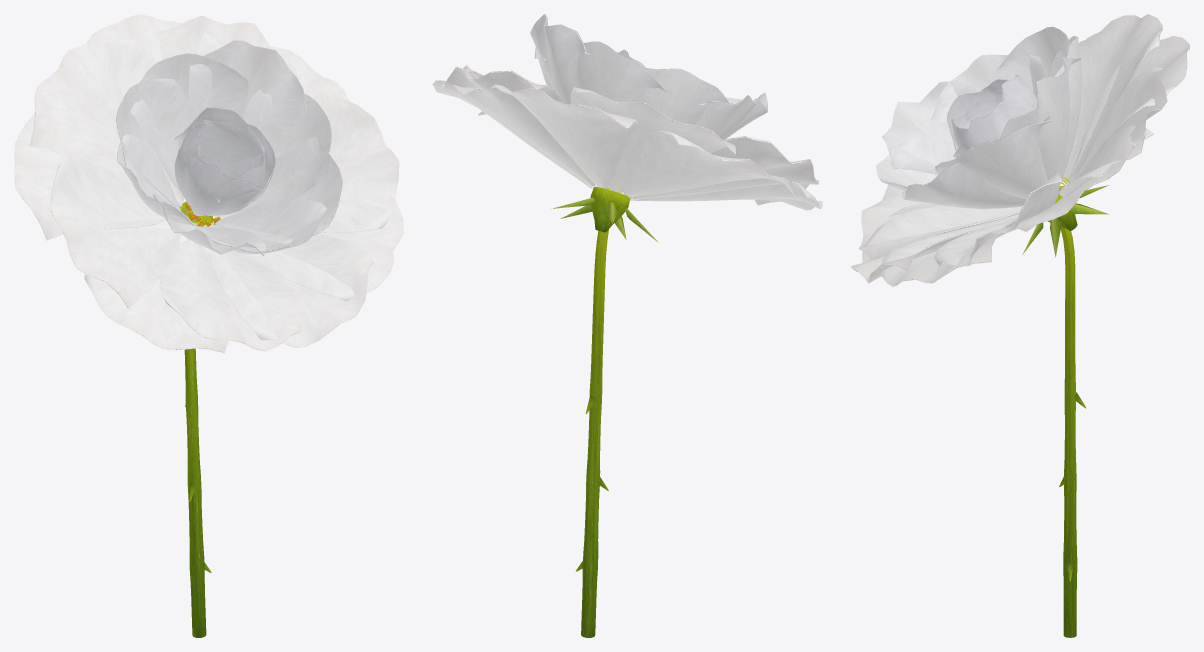
The model's file is color_3.glb.
The picture shows the model from 3 angles, left to right: view 1: azimuth 30°, elevation 25°; view 2: azimuth 150°, elevation 25°; view 3: azimuth 270°, elevation 25°; orthographic projection.
Visible parts, largest first — view 1: Petal_1_outer_03, Petal_3_outer_04, Petal_5_outer_04, Petal_6_outer_02, Petal_4_outer_01, Petal_8_outer_02, Petal_15_middle_03, Petal_7_outer_03, Petal_17_middle_01, Petal_16_middle_04, Stem_Skinned, Petal_14_middle_04 (+13 smaller); view 2: Petal_0_outer_01, Stem_Skinned, Petal_2_outer_01, Petal_10_outer_02, Petal_1_outer_03, Petal_16_middle_04, Petal_3_outer_04, Petal_17_middle_01, Petal_15_middle_03, Petal_4_outer_01, Hypanthium_and_five_sepals, Petal_18_middle_02 (+2 smaller); view 3: Petal_1_outer_03, Stem_Skinned, Petal_14_middle_04, Petal_6_outer_02, Petal_10_outer_02, Petal_15_middle_03, Petal_11_middle_03, Petal_13_middle_02, Petal_7_outer_03, Petal_0_outer_01, Petal_8_outer_02, Petal_5_outer_04 (+10 smaller).
Boxes of the visible parts, left/top/right/bottom form: Petal_1_outer_03: left=29, top=37, right=154, bottom=186; Petal_3_outer_04: left=50, top=159, right=179, bottom=308; Petal_5_outer_04: left=159, top=239, right=309, bottom=351; Petal_6_outer_02: left=209, top=234, right=373, bottom=347; Petal_4_outer_01: left=84, top=228, right=232, bottom=353; Petal_8_outer_02: left=312, top=90, right=399, bottom=233; Petal_15_middle_03: left=188, top=40, right=306, bottom=155; Petal_7_outer_03: left=246, top=172, right=403, bottom=301; Petal_17_middle_01: left=115, top=78, right=188, bottom=206; Petal_16_middle_04: left=130, top=53, right=248, bottom=191; Stem_Skinned: left=184, top=212, right=211, bottom=637; Petal_14_middle_04: left=237, top=89, right=331, bottom=211; Petal_0_outer_01: left=489, top=84, right=638, bottom=188; Stem_Skinned: left=576, top=229, right=608, bottom=637; Petal_2_outer_01: left=624, top=130, right=794, bottom=197; Petal_10_outer_02: left=441, top=66, right=594, bottom=186; Petal_1_outer_03: left=570, top=87, right=735, bottom=193; Petal_16_middle_04: left=576, top=41, right=669, bottom=102; Petal_3_outer_04: left=633, top=136, right=819, bottom=200; Petal_17_middle_01: left=638, top=67, right=728, bottom=124; Petal_15_middle_03: left=530, top=14, right=593, bottom=104; Petal_4_outer_01: left=632, top=182, right=822, bottom=210; Hypanthium_and_five_sepals: left=551, top=187, right=657, bottom=241; Petal_18_middle_02: left=694, top=95, right=755, bottom=138; Petal_1_outer_03: left=1063, top=14, right=1162, bottom=182; Stem_Skinned: left=1059, top=227, right=1086, bottom=637; Petal_14_middle_04: left=935, top=116, right=1051, bottom=198; Petal_6_outer_02: left=851, top=206, right=1020, bottom=283; Petal_10_outer_02: left=1059, top=66, right=1167, bottom=196; Petal_15_middle_03: left=1000, top=57, right=1081, bottom=184; Petal_11_middle_03: left=882, top=80, right=978, bottom=174; Petal_13_middle_02: left=902, top=163, right=1026, bottom=208; Petal_7_outer_03: left=881, top=217, right=1018, bottom=286; Petal_0_outer_01: left=1070, top=36, right=1189, bottom=181; Petal_8_outer_02: left=934, top=170, right=1062, bottom=266; Petal_5_outer_04: left=859, top=185, right=1021, bottom=260.
Bounding box in the file's own units: 0.1988 × 0.3289 × 0.1713.
Materials: 7 (7 with a texture image).
